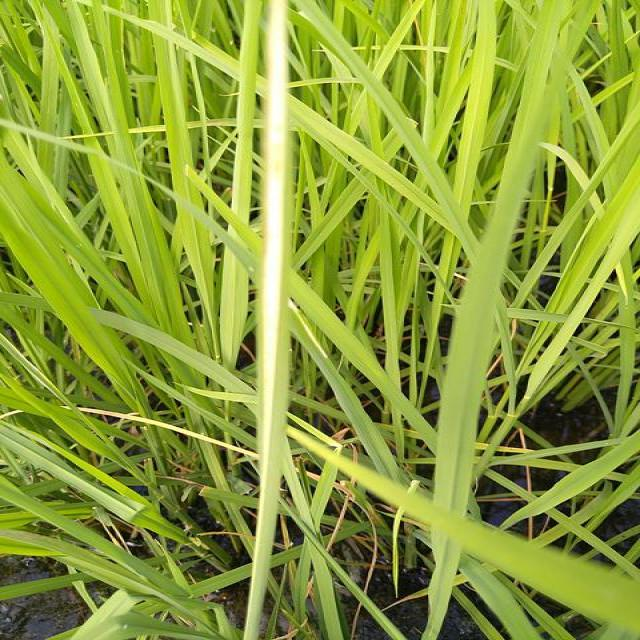Leaf Blight: (249, 0, 295, 634)
